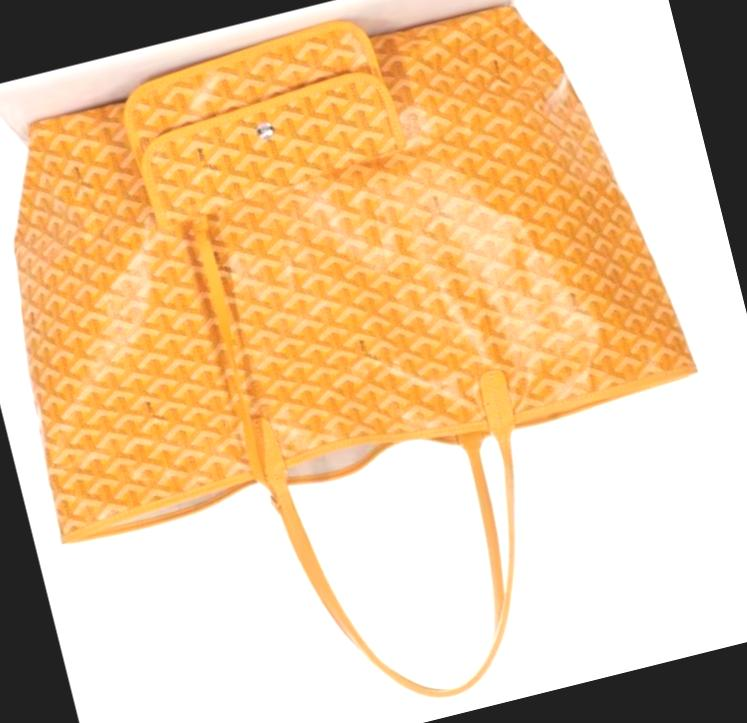GOYARD: (0, 0, 696, 534), (122, 20, 403, 227)
